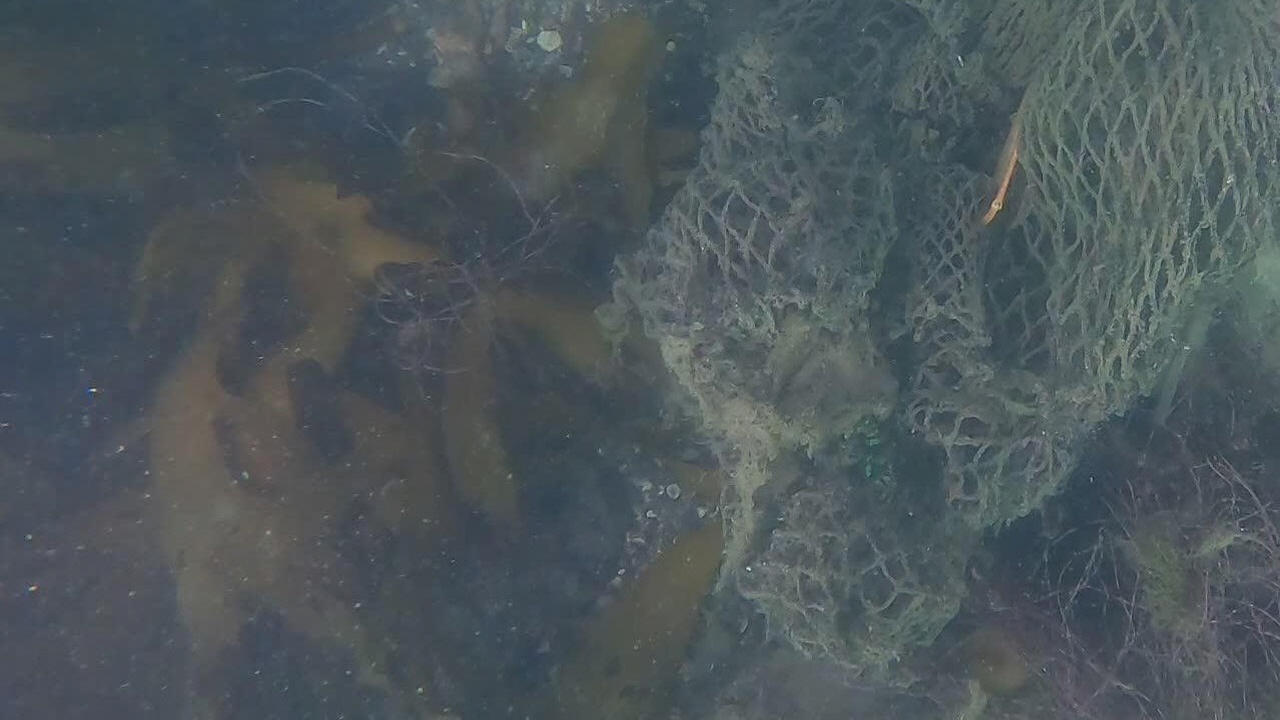fish net: (625, 0, 1280, 659)
